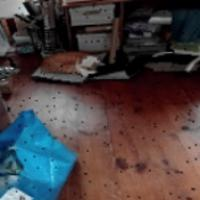asleep: (39, 49, 105, 76)
